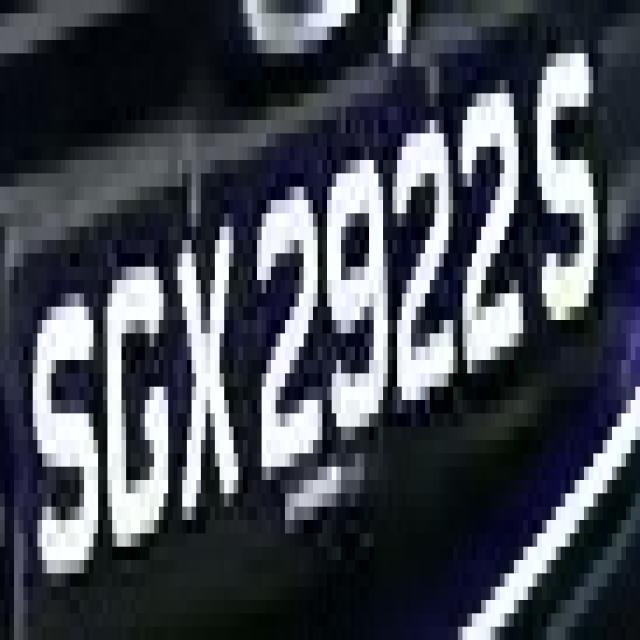2: (248, 147, 332, 520), (439, 93, 528, 400), (383, 120, 463, 440)
9: (313, 106, 397, 466)
G: (93, 253, 173, 587)
S: (524, 27, 608, 373), (28, 267, 98, 573)
X: (168, 200, 252, 520)
